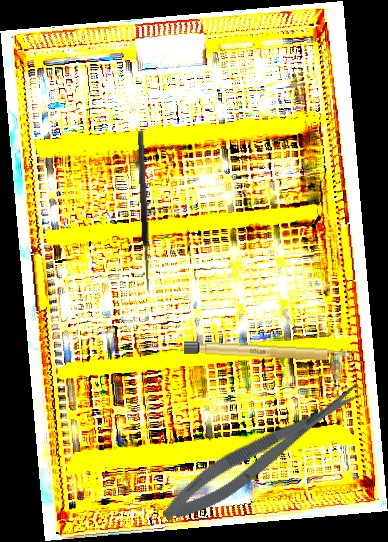Hook Surgical: (135, 130, 161, 294)
Micro Scissor: (154, 375, 373, 533)
Scalpel Handle: (183, 340, 351, 364)
